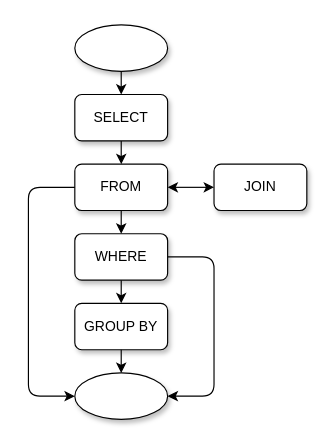
This 334x448 diagram has some shape labels left out. Each missing label, with the centre of its shape:
Finish: the point at 122,397
Start: the point at 122,49
